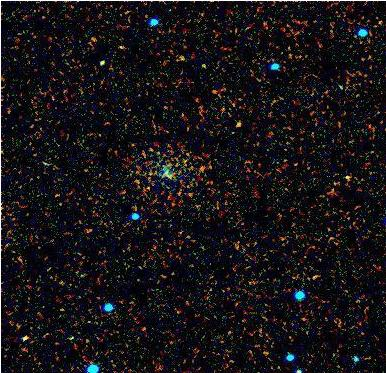star: (224, 110, 254, 140)
